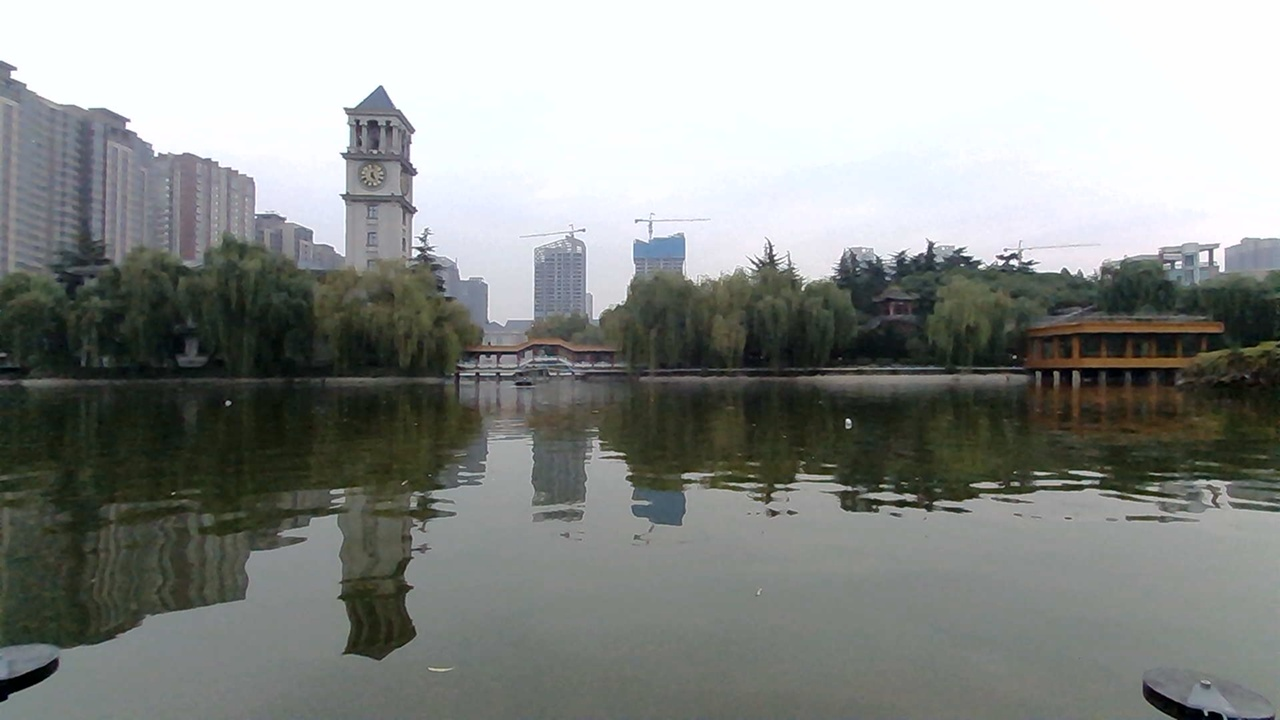bottle: (834, 404, 868, 429)
